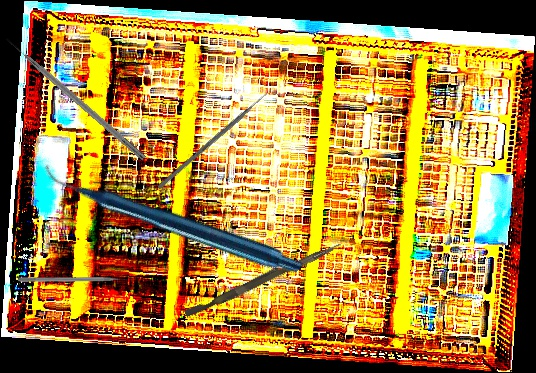Handpiece: (42, 76, 305, 358)
Hook Surgical: (4, 35, 148, 161)
Pusher: (183, 236, 343, 322), (157, 85, 276, 190), (18, 277, 133, 283)
